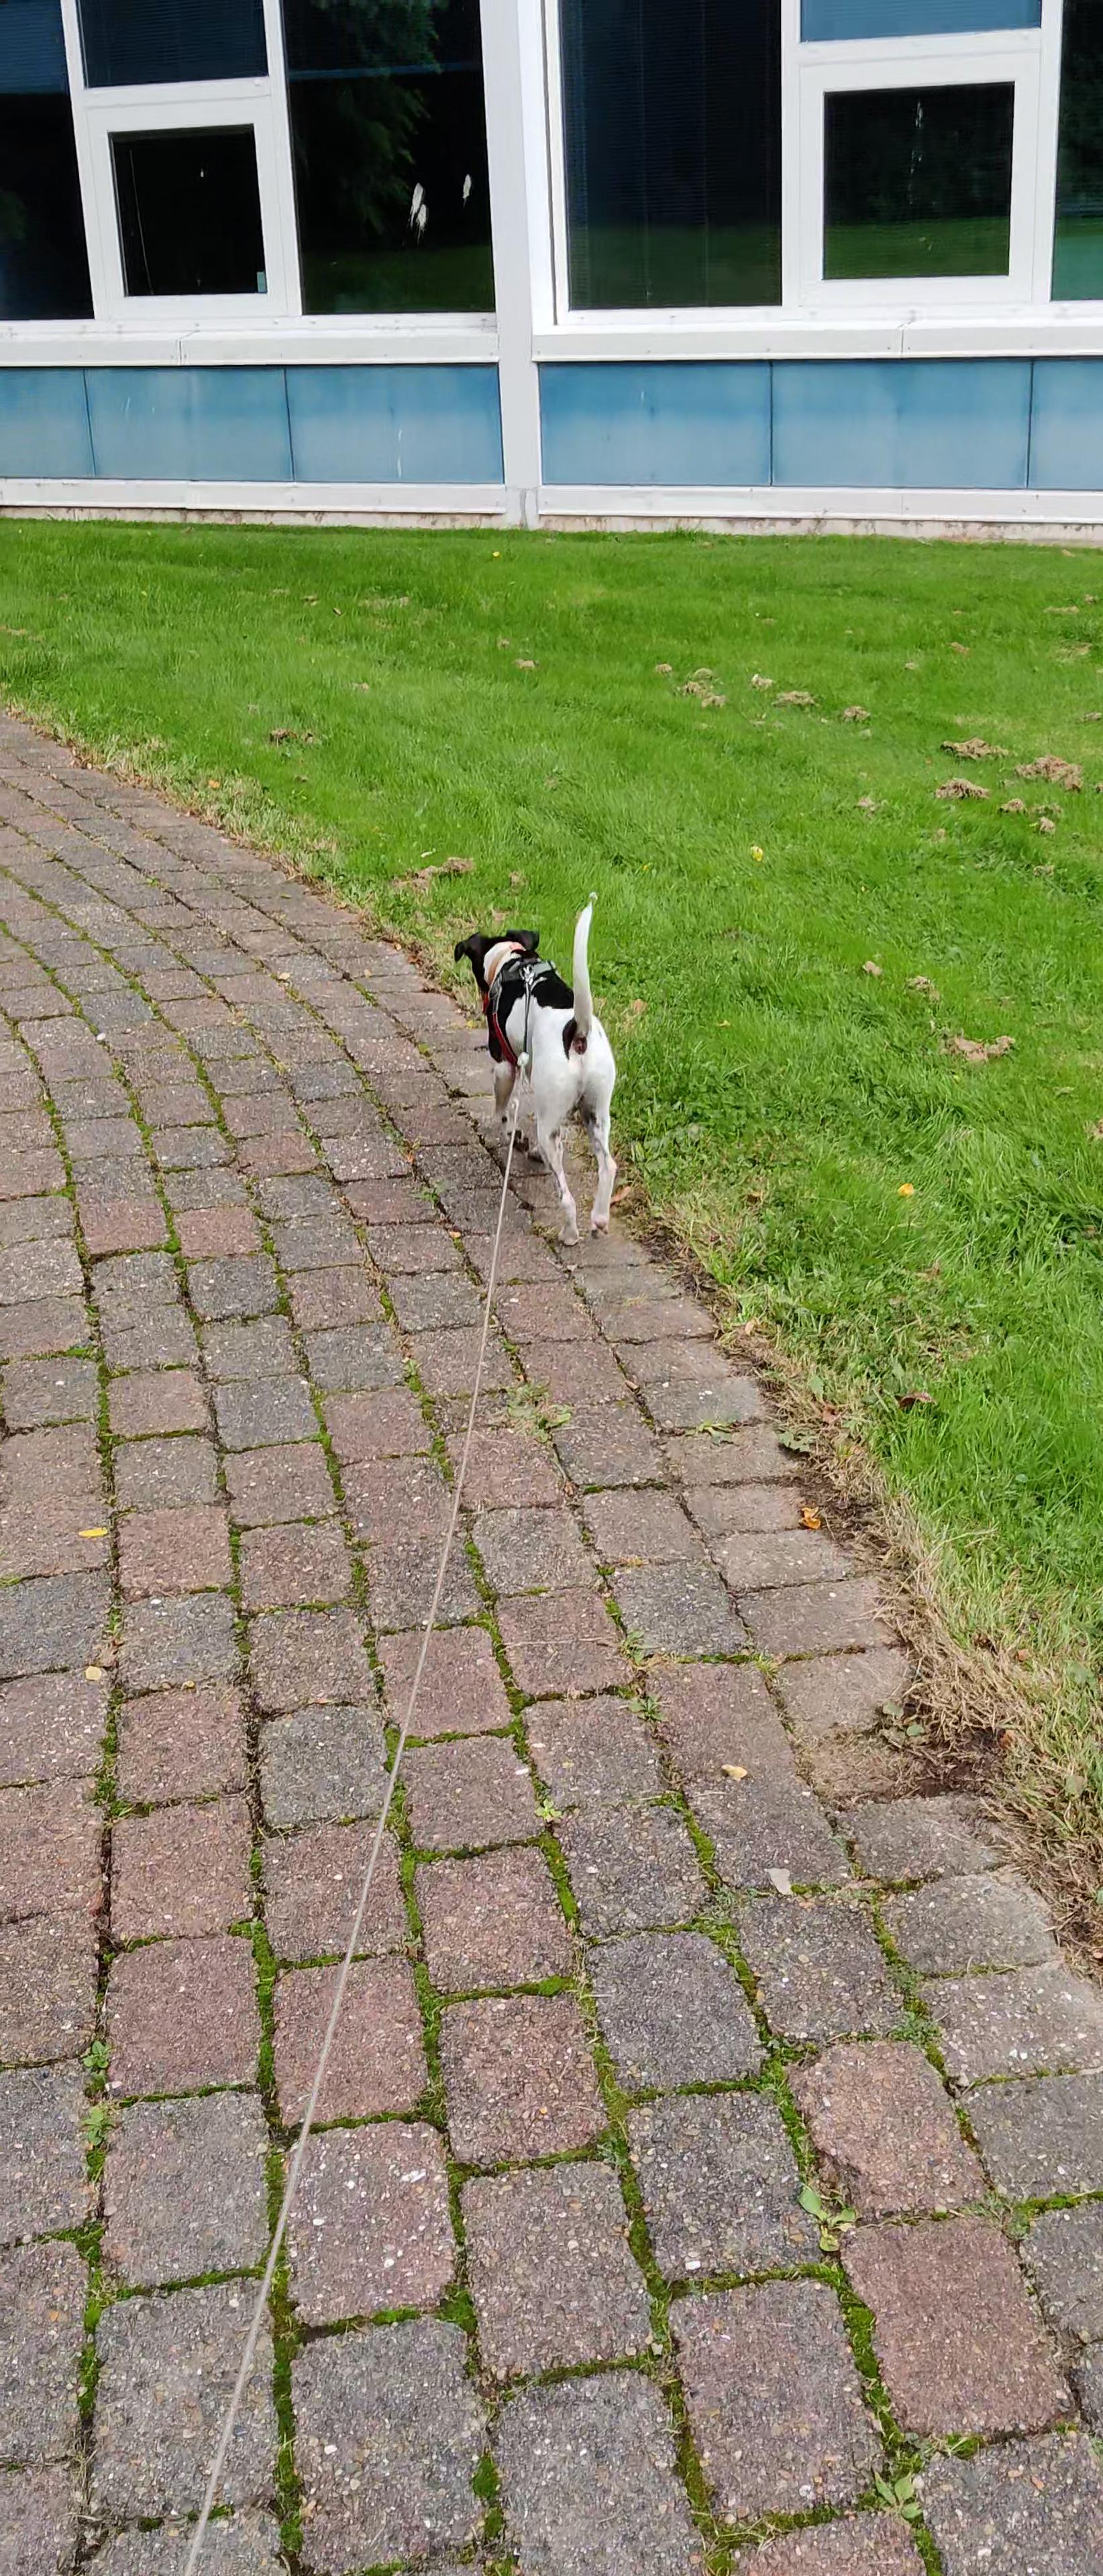Dog: (424, 874, 651, 1252)
